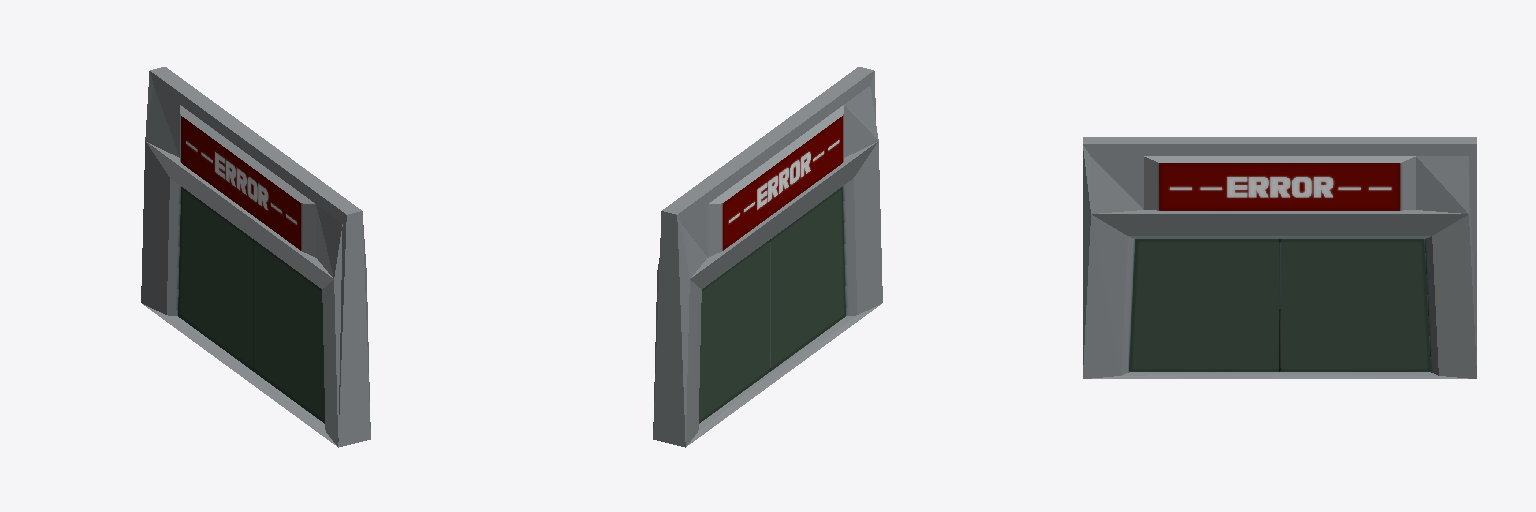
The picture shows the model from 3 angles: view 1: azimuth 30°, elevation 25°; view 2: azimuth 150°, elevation 25°; view 3: azimuth 270°, elevation 25°; orthographic projection.
Visible parts, largest first — view 1: kabe4:pCube1; view 2: kabe4:pCube1; view 3: kabe4:pCube1.
Boxes of the visible parts, x1,y1,x2,y2 form: kabe4:pCube1: [141, 67, 370, 447]; kabe4:pCube1: [653, 67, 882, 447]; kabe4:pCube1: [1083, 137, 1476, 378].
Bounding box in the file's own units: 0.54 × 3.65 × 5.66.
1 materials, 1 textured.